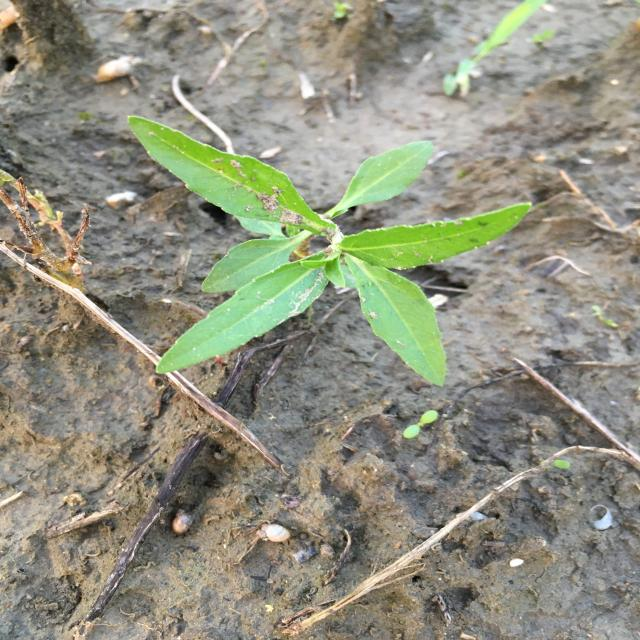Eclipta: (125, 114, 534, 388)
